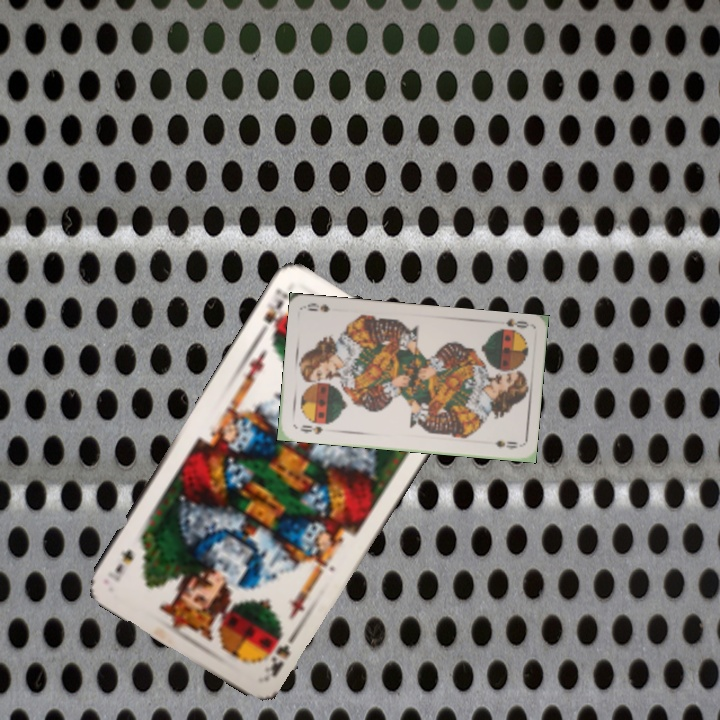SK: (259, 284, 294, 340), (267, 626, 303, 680)
SO: (296, 421, 325, 437), (501, 315, 531, 330)
